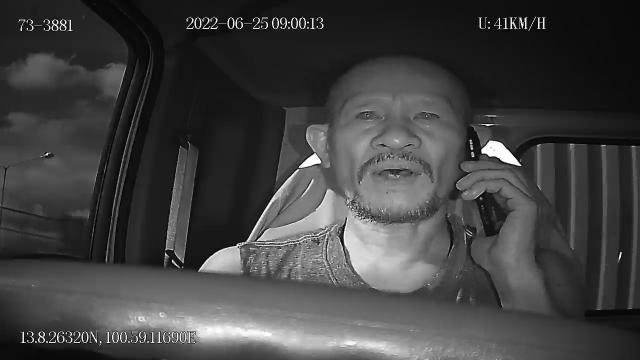PhoneUse: (464, 127, 498, 237)
SafeDriving: (346, 99, 388, 129), (405, 99, 447, 128)
